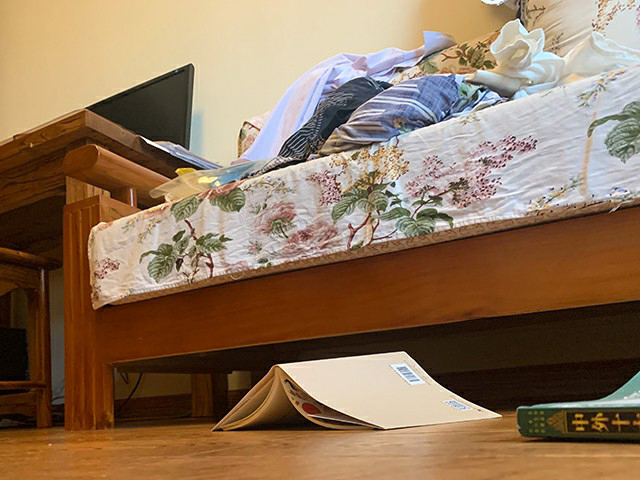book: (210, 349, 504, 430), (517, 371, 640, 444)
sofa: (62, 1, 640, 431)
